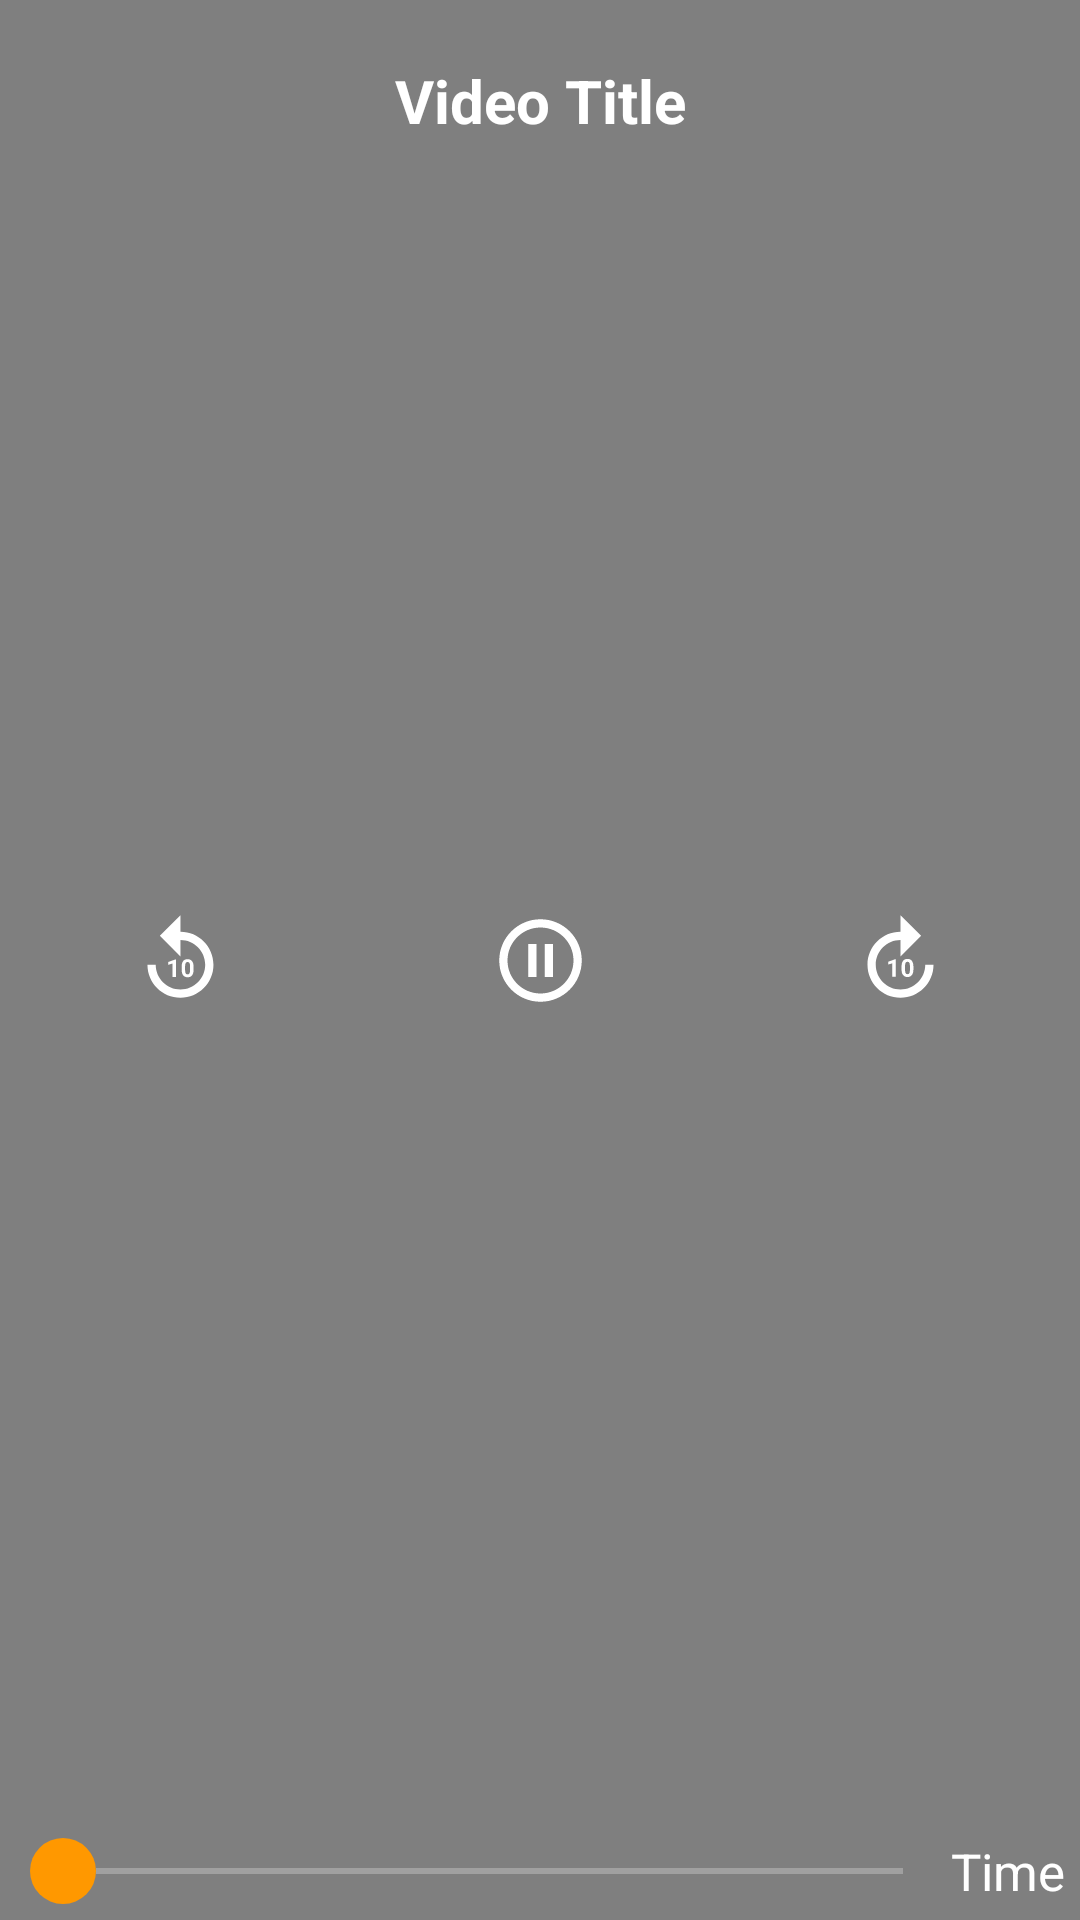

Locate icon controls on the screen. Image size 1080 x 1920, boxes as (x1, y1, x2, y2).
forword: (867, 915, 934, 998)
pause: (499, 919, 582, 1002)
replay: (147, 915, 214, 998)
